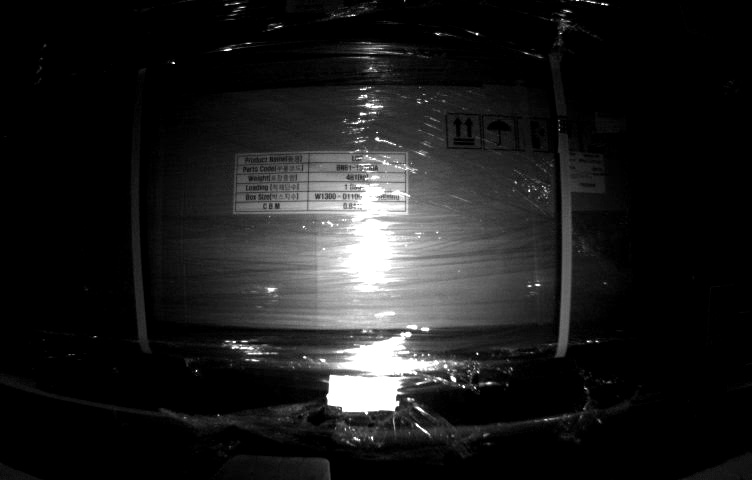True Barcode: (561, 149, 605, 193)
